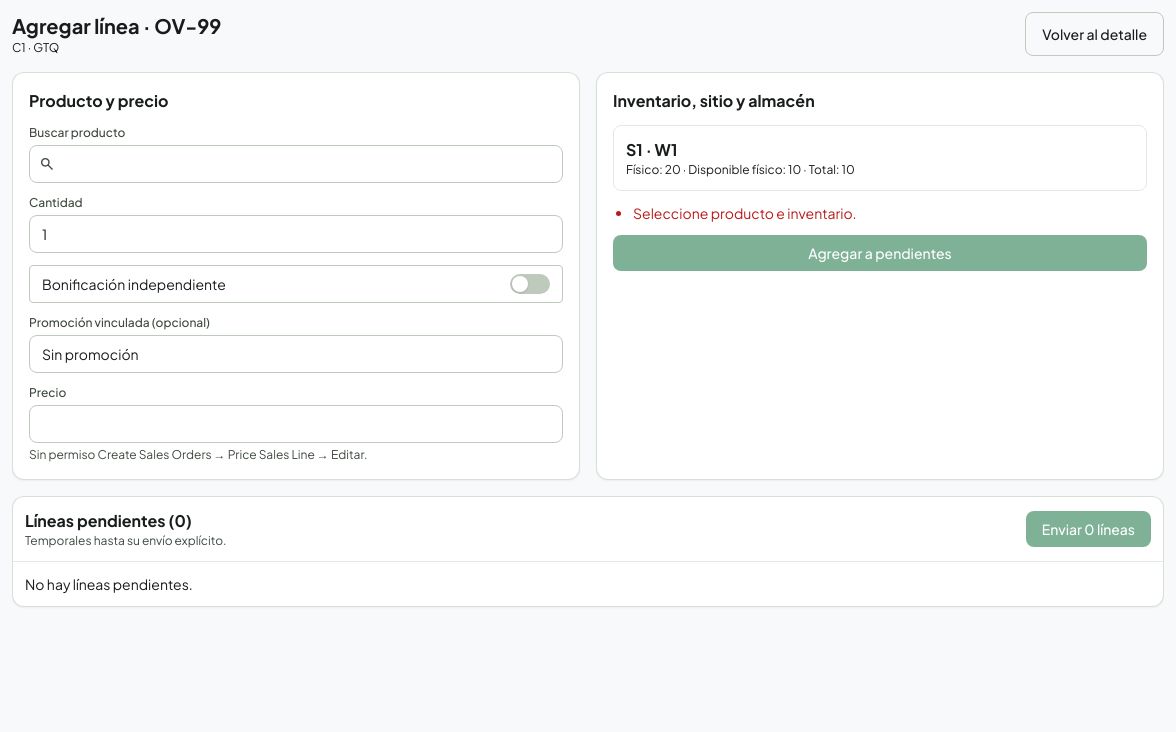
Test: AddExistingOrderLinePage guards and local selection › validates quantity/price and adds a local selection without sending anything
The image size is (1176, 732).
Expected: the button "Agregar a pendientes" is disabled, [613,235,1147,271]
Type "I1" into the field labelled "Buscar producto". click: coordinates (296, 164)
box: [29,145,563,183]
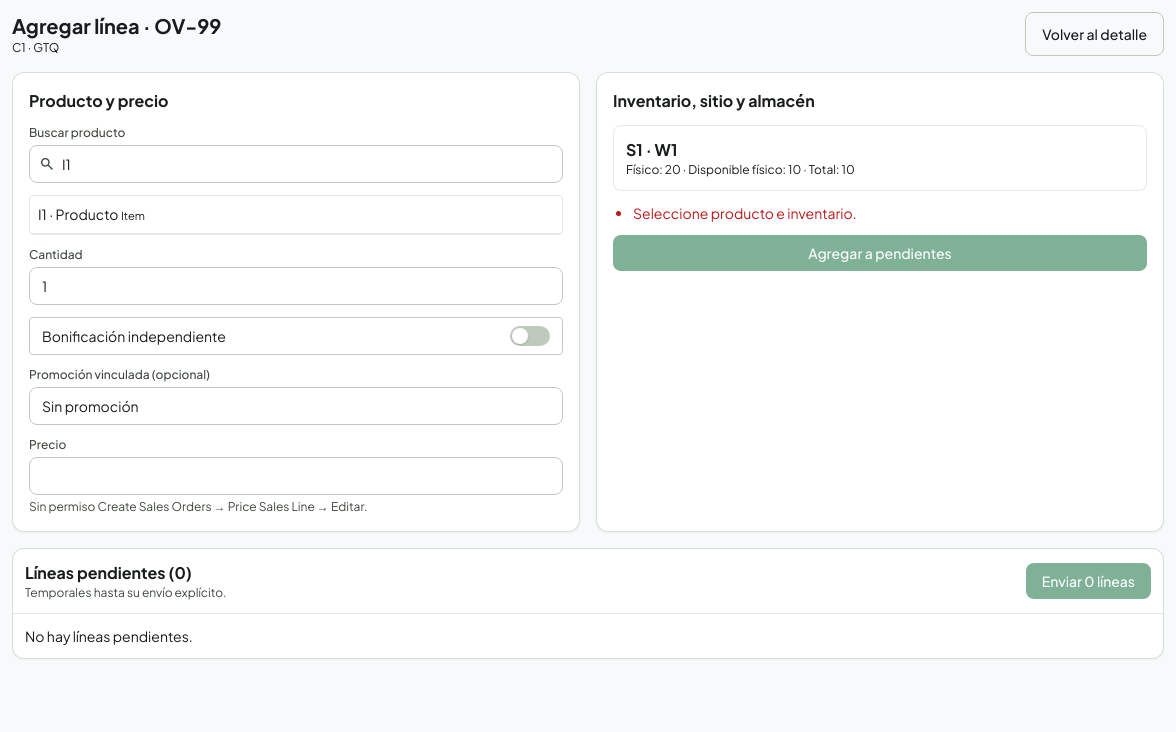
Click the button "I1 · Producto Item". click: coordinates (87, 214)
box: [30,196,562,234]
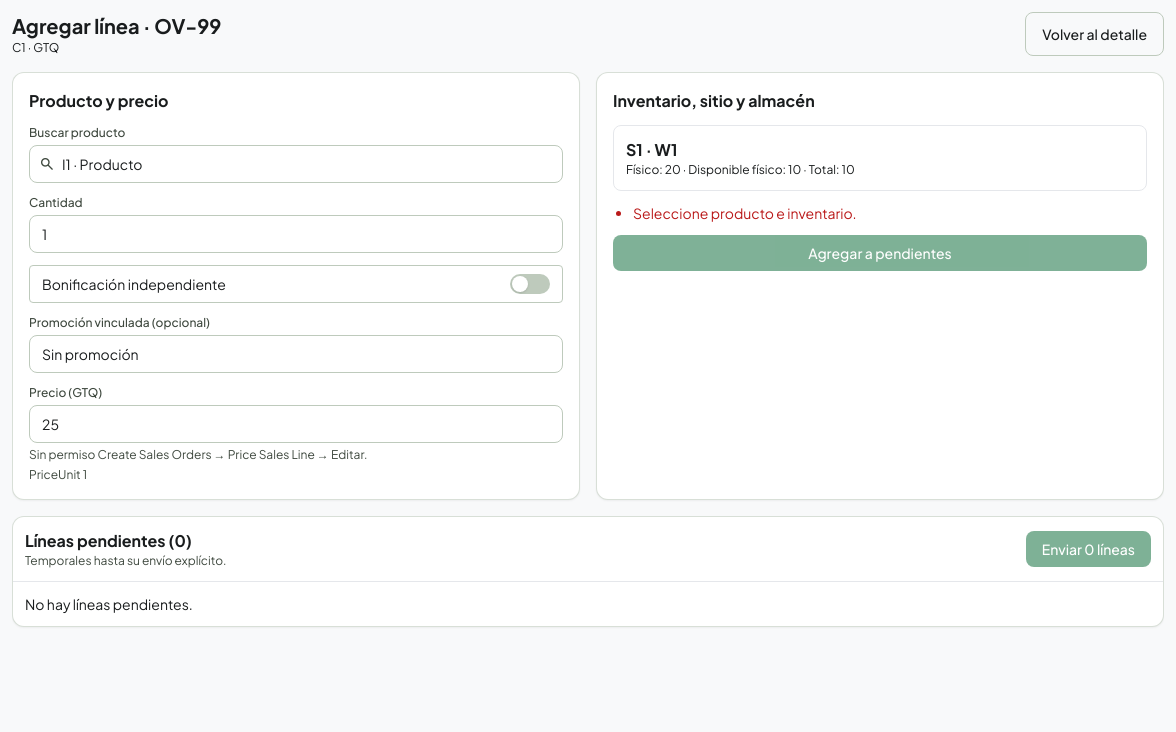
Now the number field labelled "Precio (GTQ)" holds "25", box [29,405,563,443]
Click the button "S1 · W1 Físico: 20 · Disponible físico: 10 · Total: 10". click: coordinates (645, 170)
box: [613,125,1147,191]
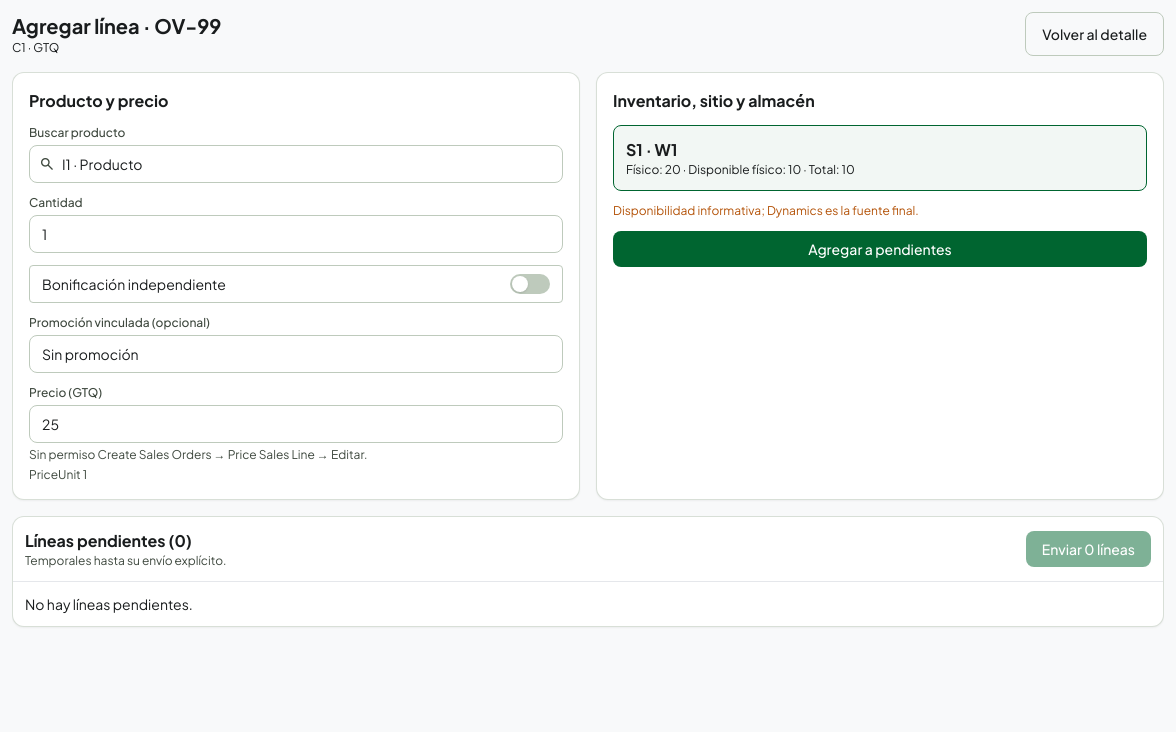
Replace the text in the number field labelled "Cantidad" with "0". click: coordinates (296, 234)
box: [29,215,563,253]
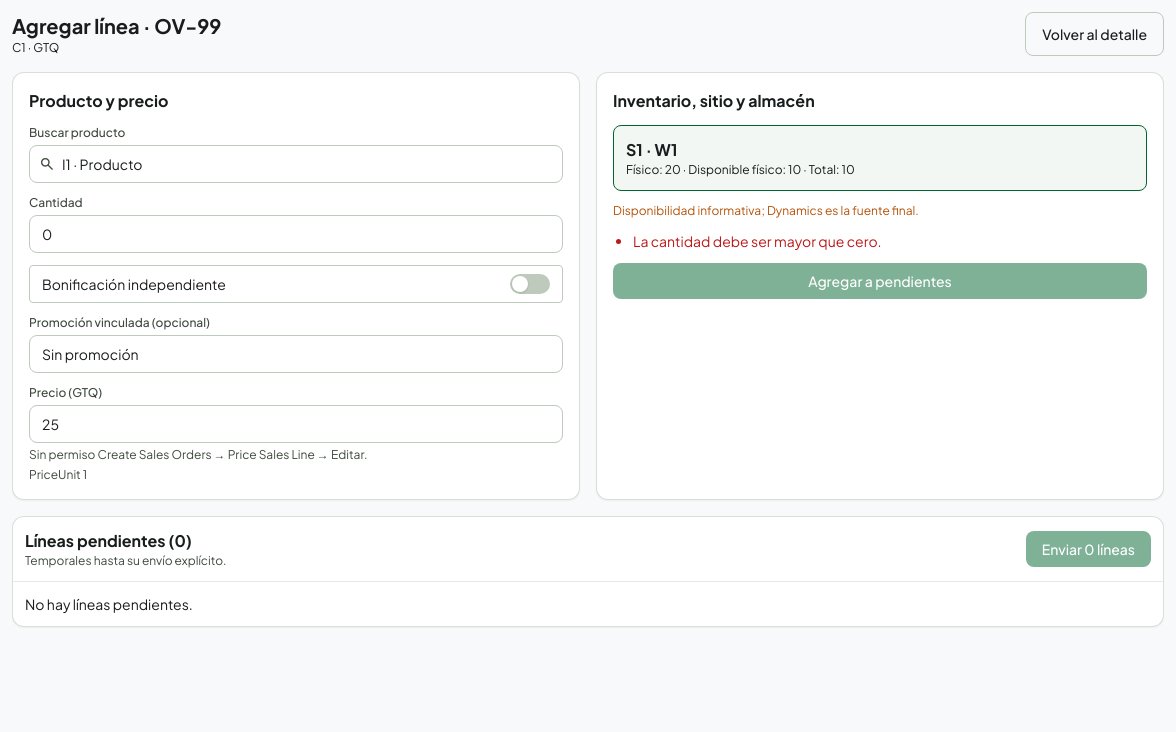
Now the message reads "La cantidad debe ser mayor que cero.", box [633,232,882,250]
Now the button "Agregar a pendientes" is disabled, box [613,263,1147,299]
Replace the text in the number field labelled "Cantidad" with "2". click: coordinates (296, 234)
box: [29,215,563,253]
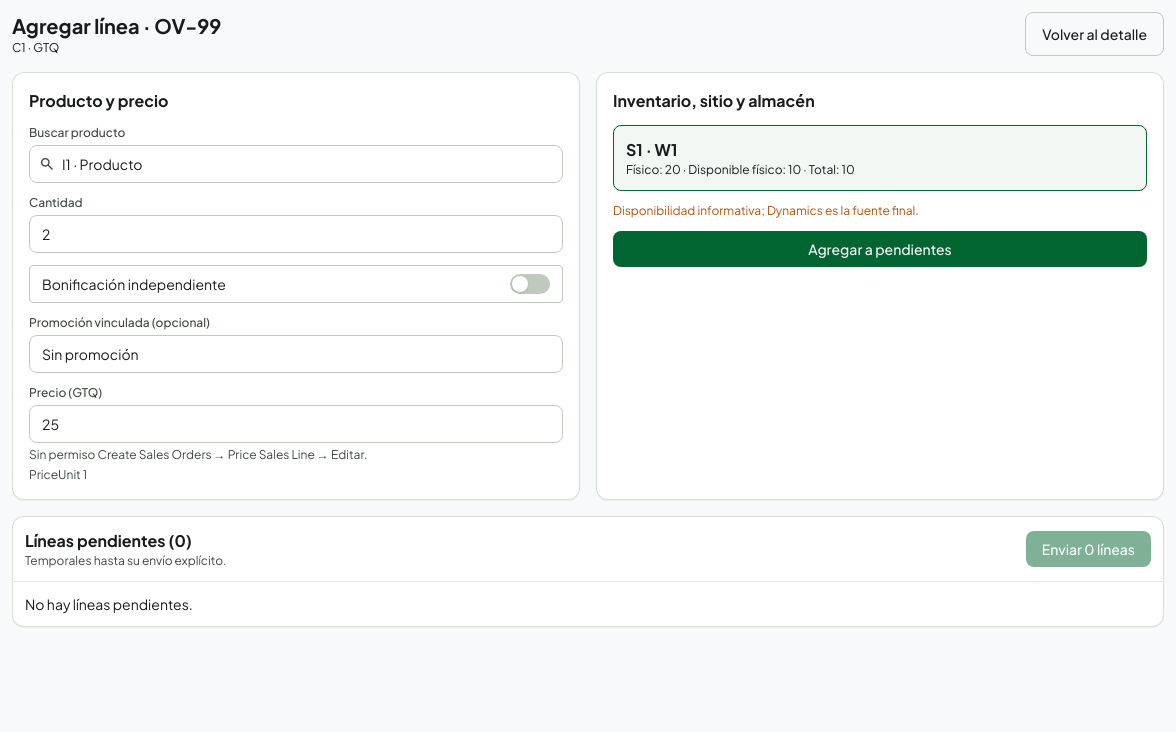
Click the button "Agregar a pendientes". click: coordinates (880, 249)
box: [613,231,1147,267]
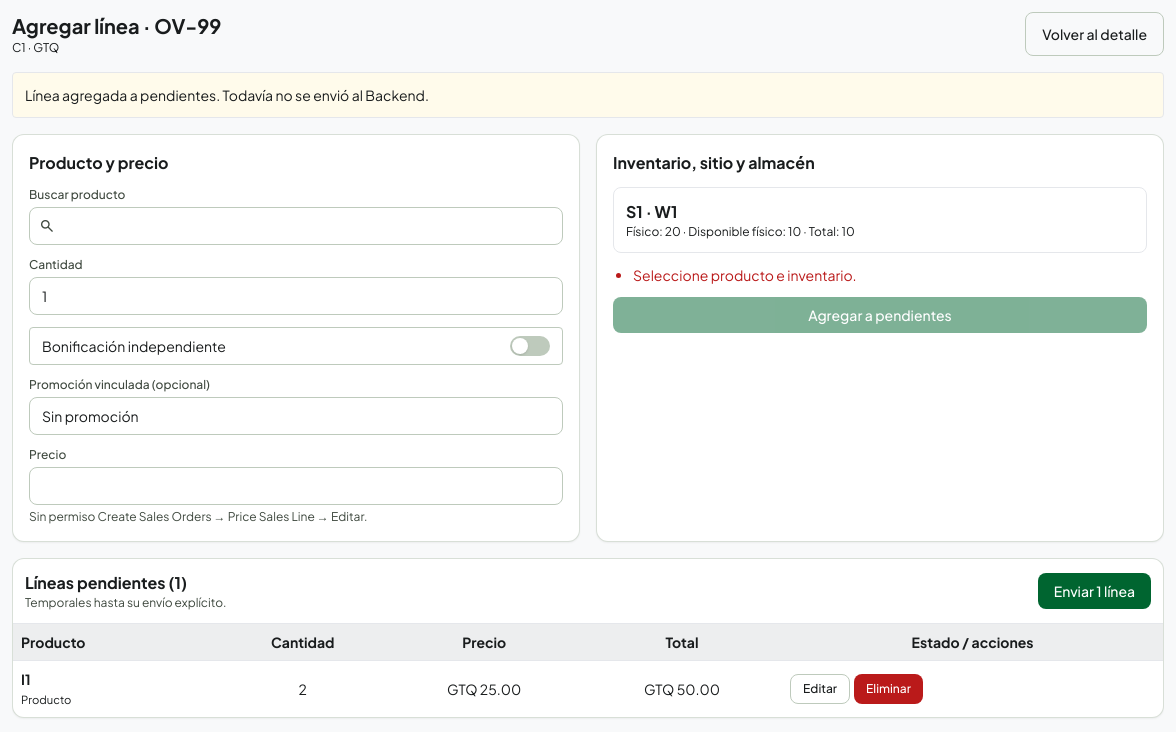
Now the text "Línea agregada a pendientes. Todavía no se envió al Backend." is shown, box [12,72,1164,118]
